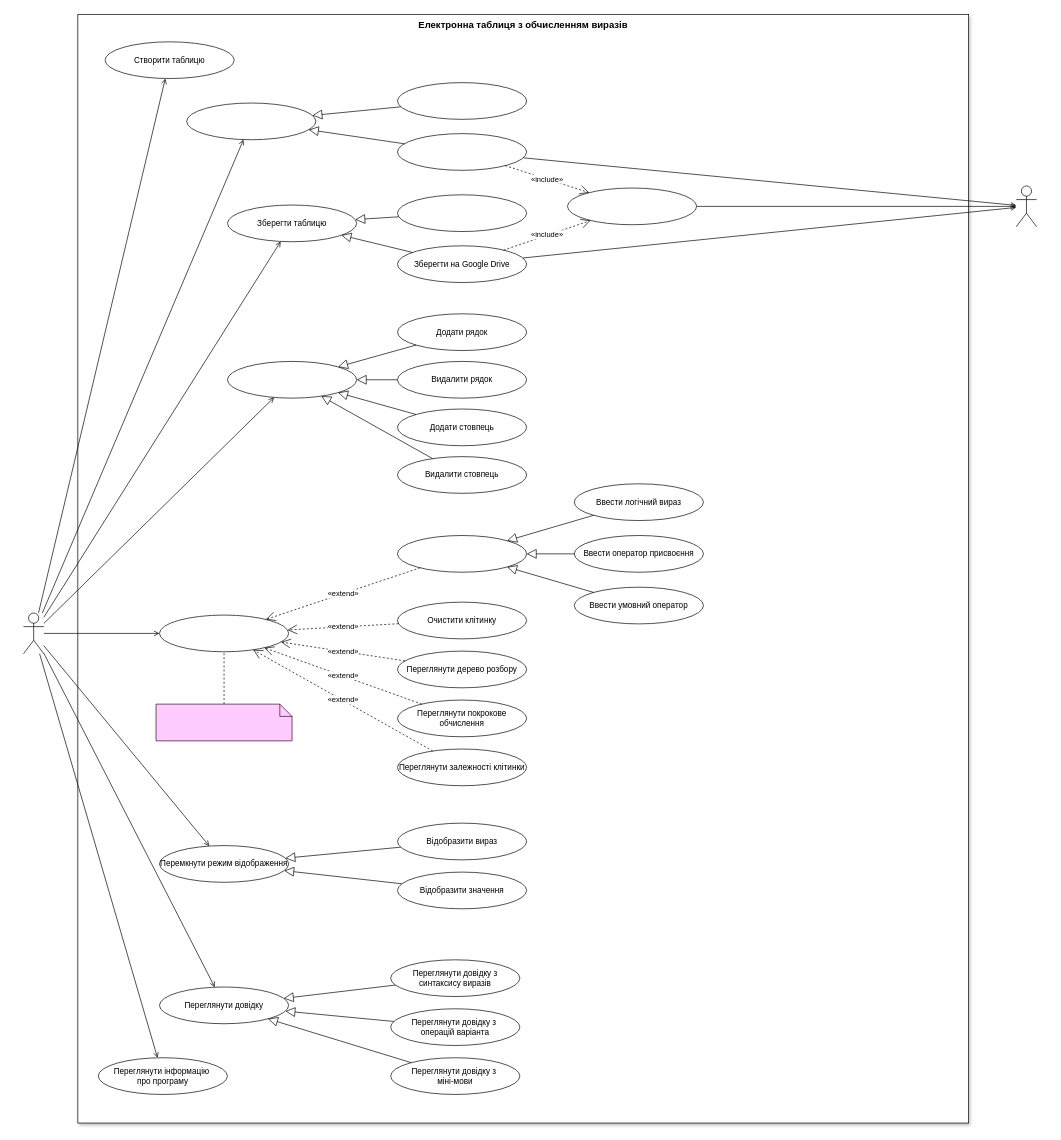
Image size: 1061x1140. Some labels were removed from this diagram. Here are the shapes that lost their labels. From the top down, the centre of each, then its label:
At pixel 462 100: "Відкрити з диска".
At pixel 251 121: "Відкрити таблицю".
At pixel 462 151: "Відкрити з Google Drive".
At pixel 462 213: "Зберегти на диск".
At pixel 632 206: "Авторизуватися в Google Drive".
At pixel 1026 206: "Google Drive".
At pixel 292 379: "Змінити розмір таблиці".
At pixel 462 553: "Ввести вміст клітинки".
At pixel 33 633: "Користувач".
At pixel 224 633: "Обрати клітинку".
At pixel 223 722: "Передумова: таблиця вже створена або відкрита.".
